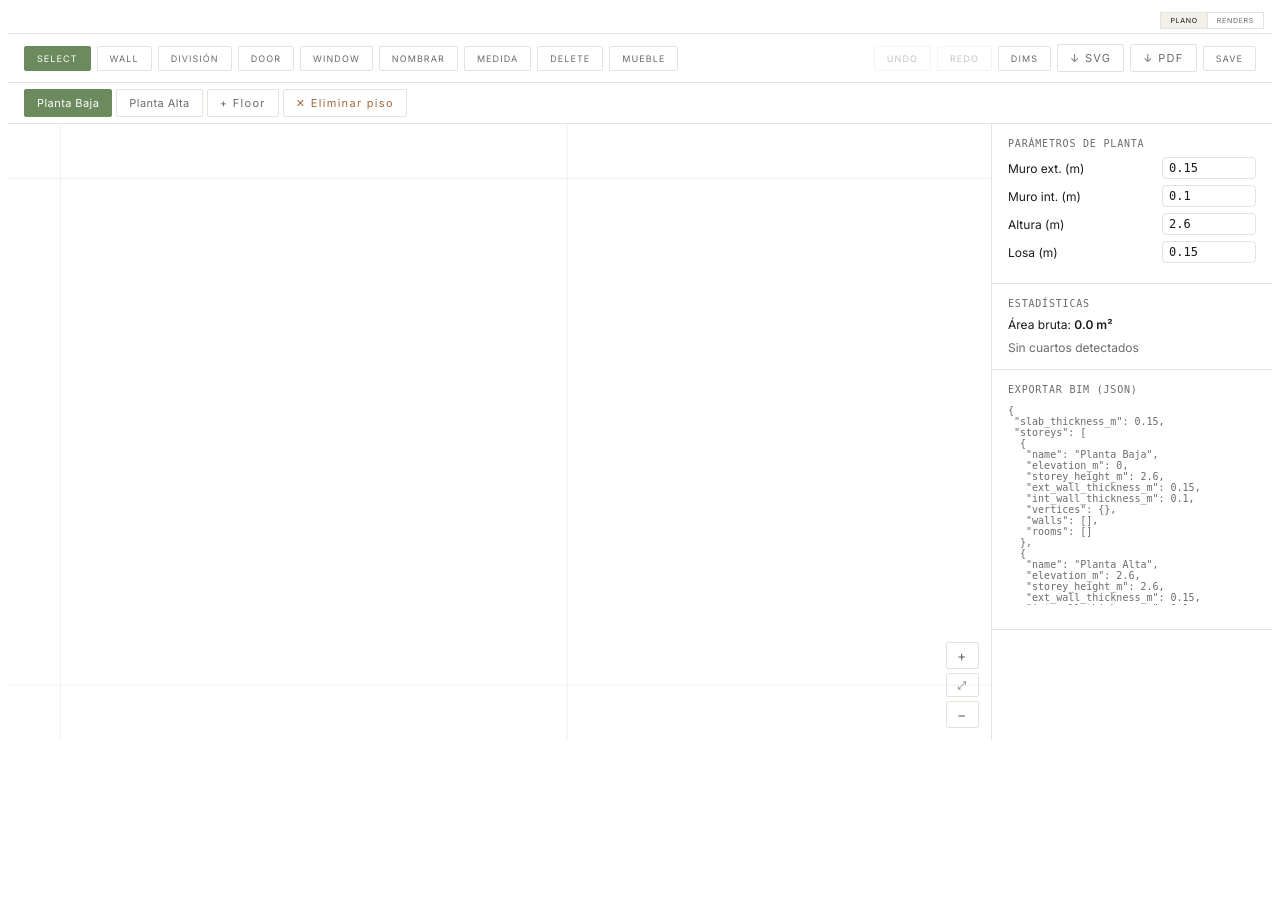
Test: LevantamientoPanel · GENERAR TODOS LOS PISOS (Task 31) › con 2+ pisos ofrece el botón de lote
The image size is (1280, 900).
Click the button "RENDERS" at [1235, 20], box [1207,12,1264,29]
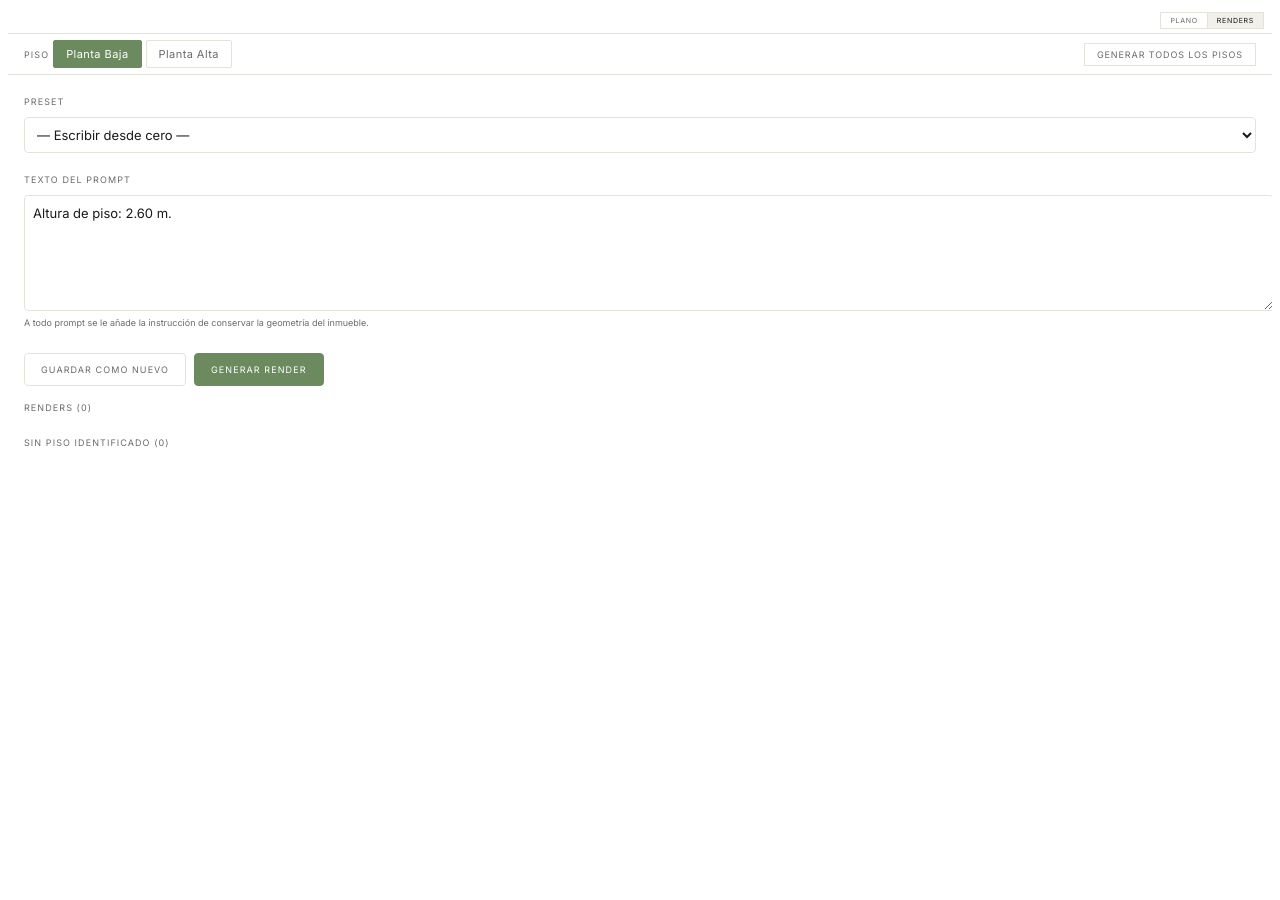
Expected: the button "GENERAR TODOS LOS PISOS" is shown, [1084,42,1256,66]
